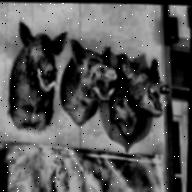boar: (12, 18, 64, 127)
